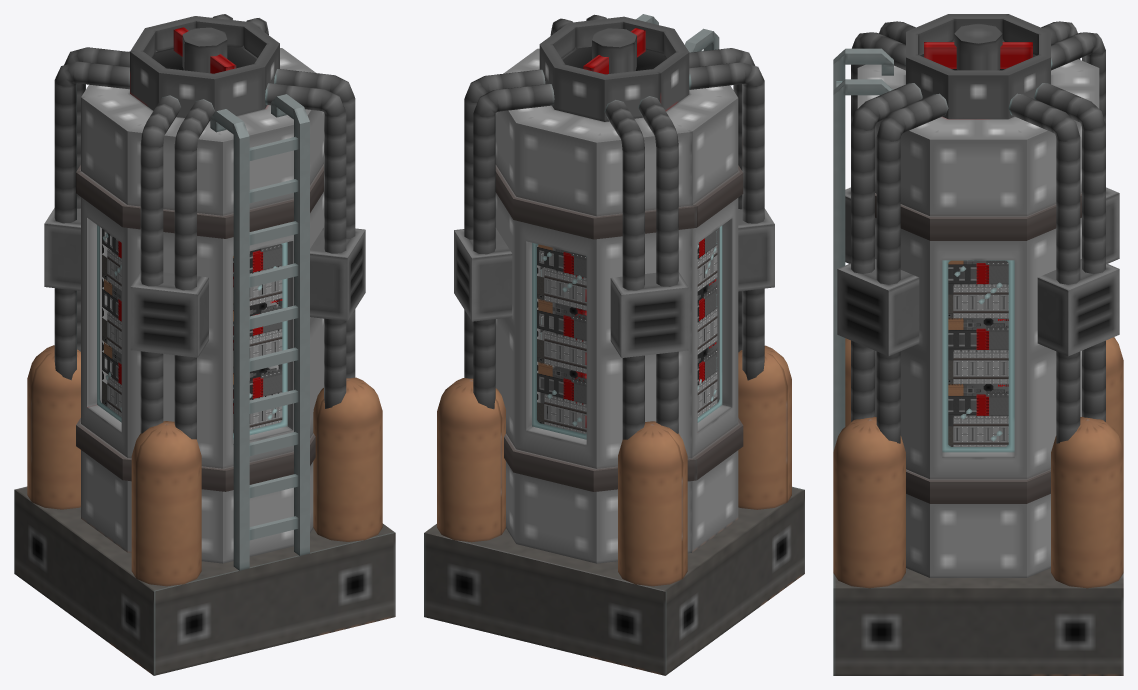
The model's file is ore_acidizer.obj.
3 views of the same model, side by side, from view 1: azimuth 30°, elevation 25°; view 2: azimuth 150°, elevation 25°; view 3: azimuth 270°, elevation 25° (orthographic). The views are drawn at different scales.
Visible parts, largest first — view 1: Body, Fluid, Spinner; view 2: Body, Fluid, Spinner; view 3: Body, Fluid, Spinner.
Boxes of the visible parts, left/top/right/bottom form: Body: left=14, top=14, right=395, bottom=675; Fluid: left=102, top=229, right=282, bottom=432; Spinner: left=173, top=27, right=249, bottom=423; Body: left=424, top=14, right=804, bottom=675; Fluid: left=537, top=230, right=717, bottom=433; Spinner: left=569, top=28, right=645, bottom=427; Body: left=833, top=14, right=1123, bottom=675; Fluid: left=948, top=260, right=1008, bottom=446; Spinner: left=924, top=23, right=1032, bottom=440.
Bounding box in the file's own units: 3 × 6.62 × 3.
